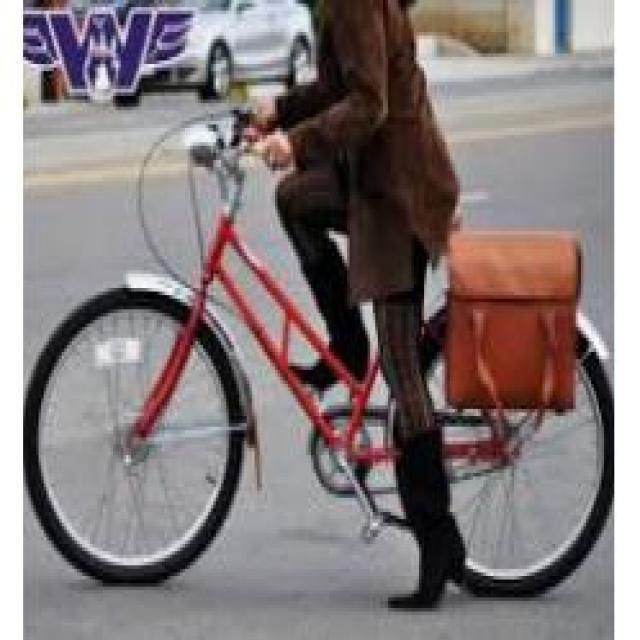bicycle: (34, 119, 618, 606)
